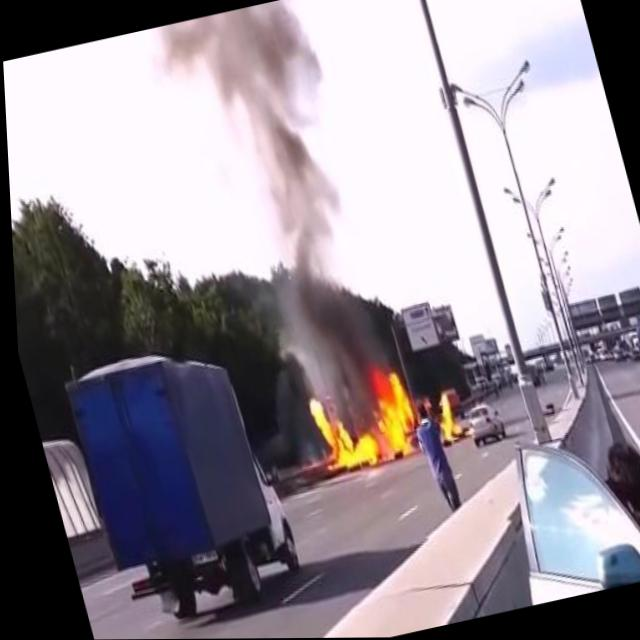fire: (295, 363, 423, 480), (425, 386, 461, 441)
